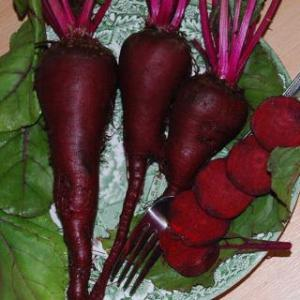beet: (34, 34, 118, 300), (126, 30, 193, 148), (178, 81, 242, 180)
